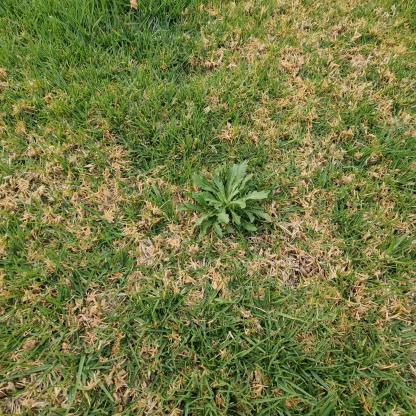Weeds: (175, 159, 273, 240)
